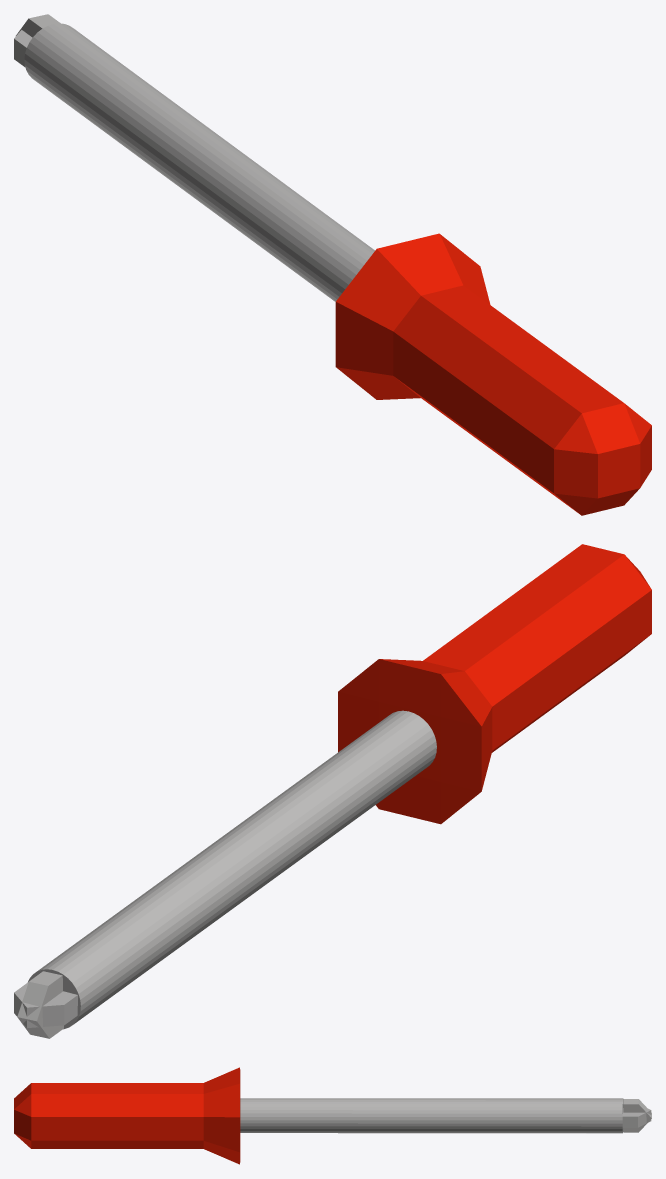
File: ExportedBlenderFBXFile.fbx
3 renders of one model, top to bottom at view 1: azimuth 30°, elevation 25°; view 2: azimuth 150°, elevation 25°; view 3: azimuth 270°, elevation 25°, orthographic. The views are drawn at different scales.
Parts seen in each view (by area): view 1: rekojesc, kij, krzyz1; view 2: rekojesc, kij, krzyz1; view 3: rekojesc, kij, krzyz1.
Boxes of the visible parts, x1=… form: rekojesc: x1=335, y1=233, x2=651, y2=515; kij: x1=24, y1=23, x2=374, y2=301; krzyz1: x1=14, y1=14, x2=60, y2=66; rekojesc: x1=338, y1=544, x2=651, y2=824; kij: x1=28, y1=710, x2=436, y2=1029; krzyz1: x1=14, y1=971, x2=77, y2=1038; rekojesc: x1=14, y1=1067, x2=240, y2=1164; kij: x1=240, y1=1098, x2=623, y2=1133; krzyz1: x1=622, y1=1099, x2=651, y2=1132.
Bounding box in the file's own units: 2.96 × 2.96 × 21.06.
